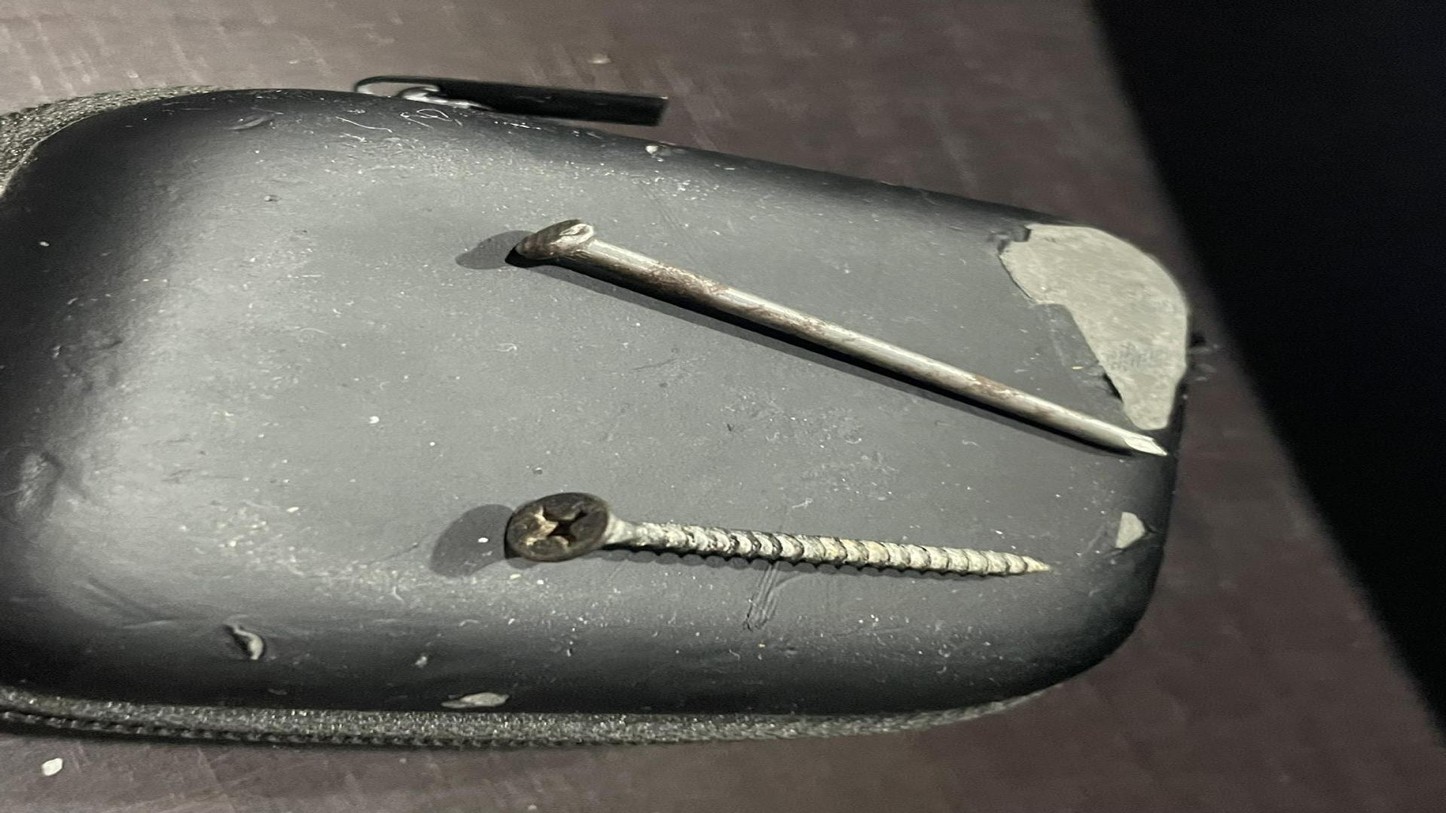nail: (490, 212, 1191, 468)
screw: (480, 486, 1073, 595)
